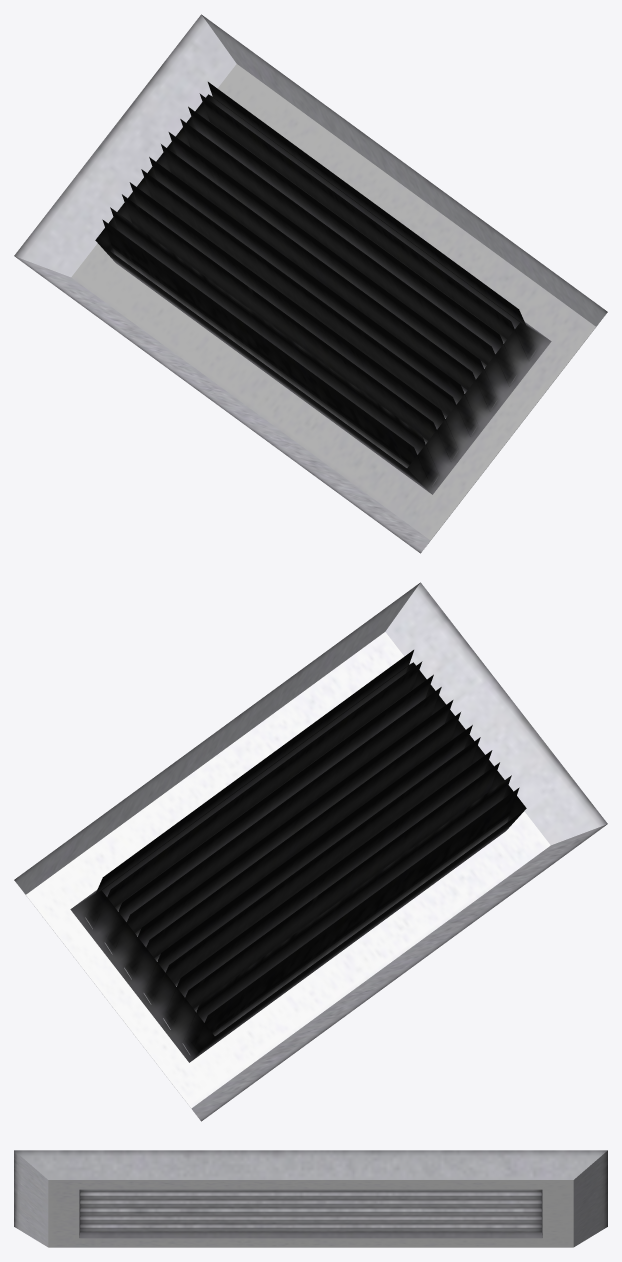
File: vent01.FBX
3 renders of one model, top to bottom at view 1: azimuth 30°, elevation 25°; view 2: azimuth 150°, elevation 25°; view 3: azimuth 270°, elevation 25°, orthographic. The views are drawn at different scales.
Parts seen in each view (by area): view 1: Object007; view 2: Object007; view 3: Object007.
Part boxes in pixels (bbox=[...]): Object007: bbox=[14, 14, 607, 553]; Object007: bbox=[14, 582, 607, 1121]; Object007: bbox=[14, 1150, 607, 1247].
Bounding box in the file's own units: 0.2857 × 0.2857 × 1.01.
1 material, 1 textured.
